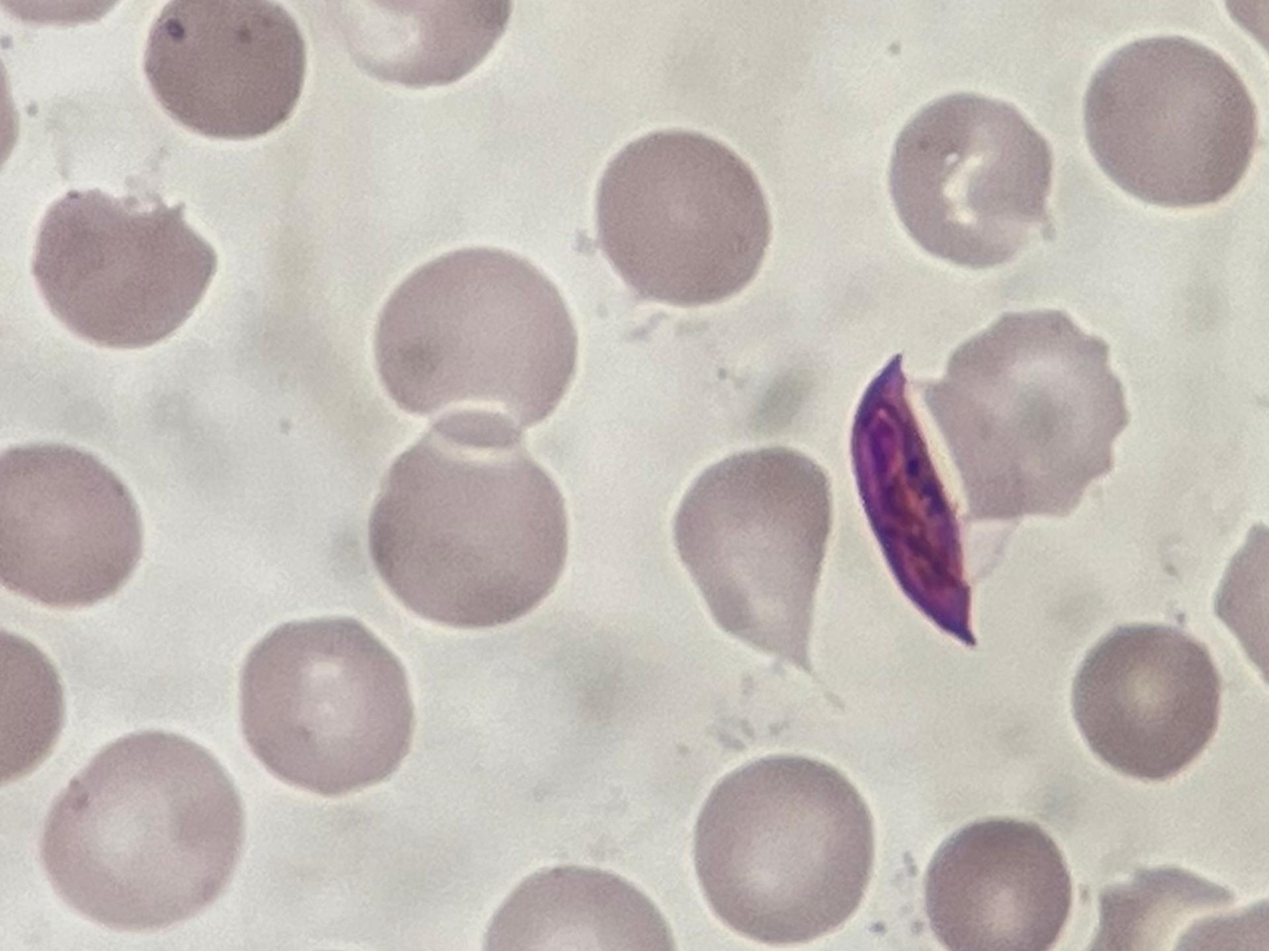Infected: (848, 351, 1024, 651)
Uninfected: (372, 400, 573, 631), (929, 308, 1131, 524), (373, 243, 580, 448), (669, 445, 840, 679), (40, 731, 243, 927), (692, 754, 873, 943), (241, 613, 416, 798), (595, 126, 773, 306), (30, 186, 217, 354), (1081, 32, 1256, 206), (889, 91, 1054, 271), (0, 441, 146, 609), (1072, 620, 1222, 783), (144, 0, 309, 140), (922, 815, 1075, 951)
